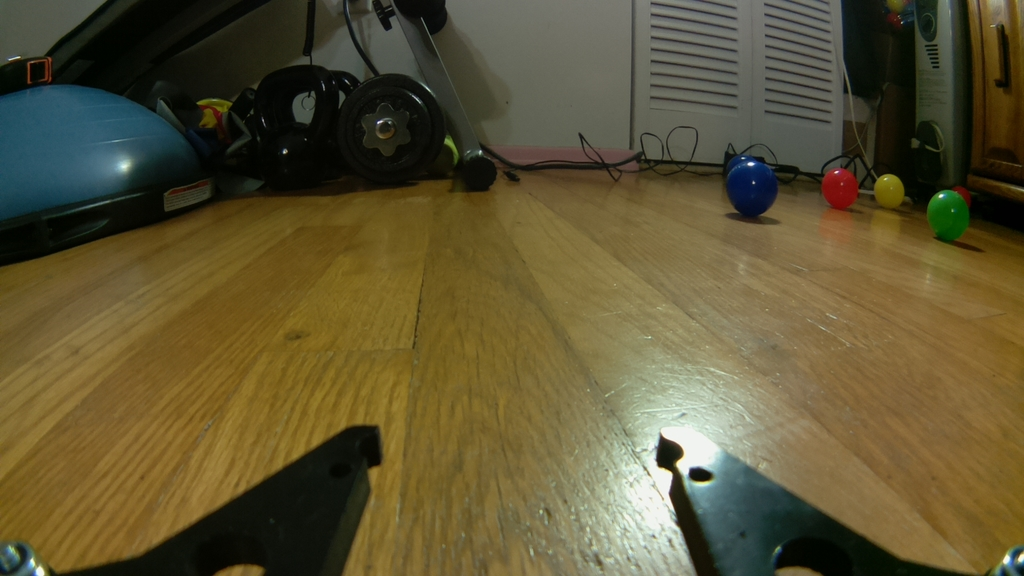ball: (928, 188, 972, 244)
